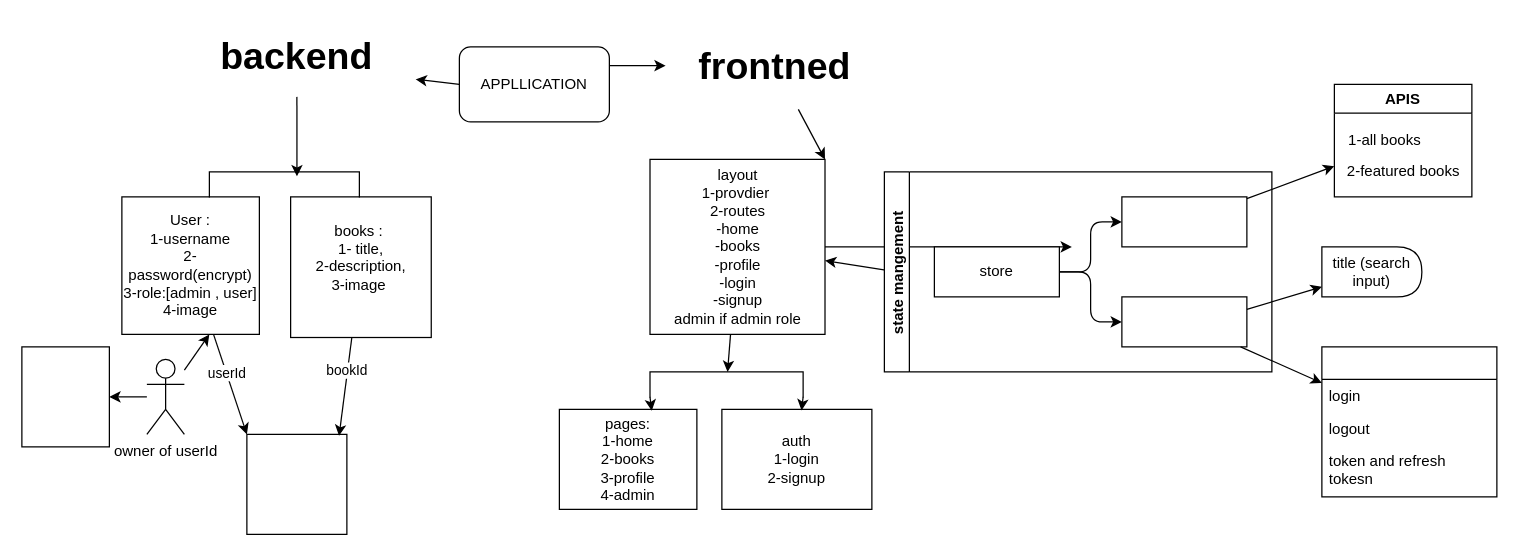
The diagram is 1519 pixels wide and 556 high, and some of its shapes have lost their labels. The shapes that lost their labels are listed below. From the top down, each one's box as (x1, y1, x2, y2) in pixels, then its label:
(1121, 196, 1247, 247): rtk query or thunk
(1121, 296, 1247, 347): states :user , search title...
(21, 346, 109, 447): name image
(1321, 346, 1497, 497): user state
(246, 433, 347, 534): reviews: 1-bookId, userId , review
